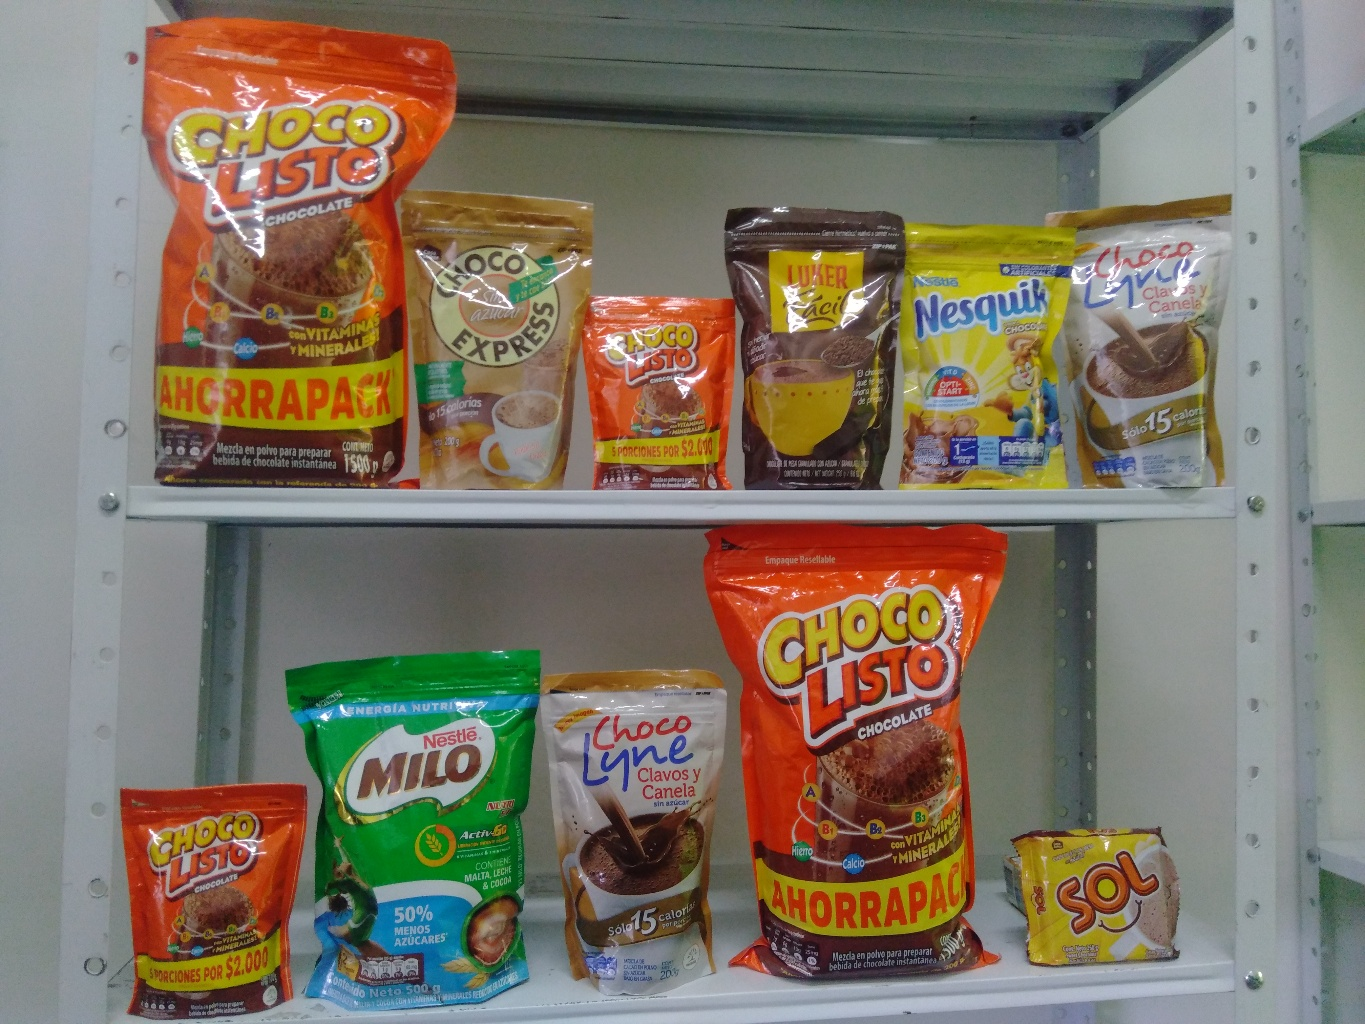COL0170103DYP1,500: (127, 8, 456, 499)
COL0170205DYP50000: (273, 652, 561, 997)
COL0170303DYP20000: (891, 227, 1080, 499)
